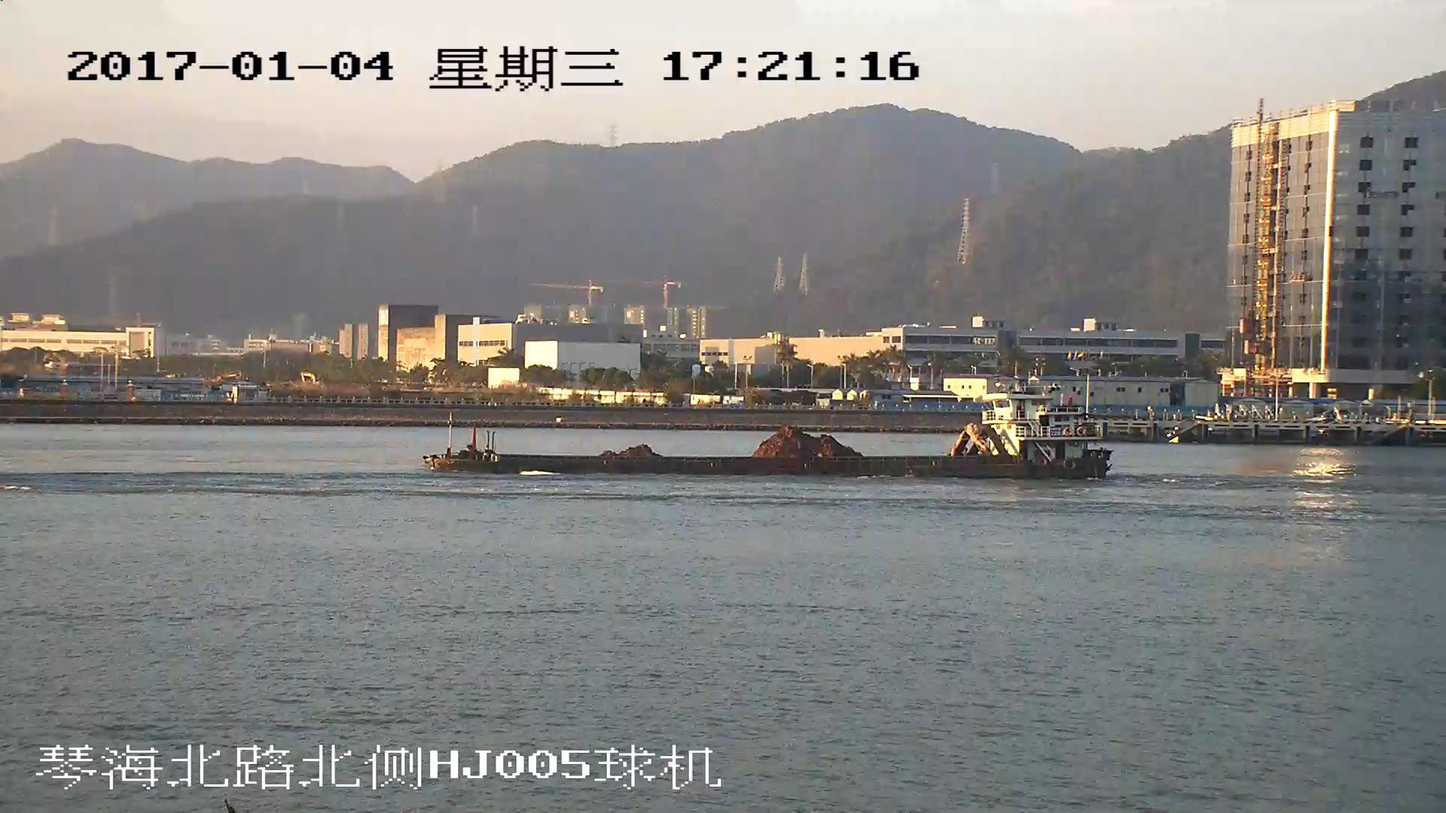ore carrier: (426, 389, 1108, 481)
